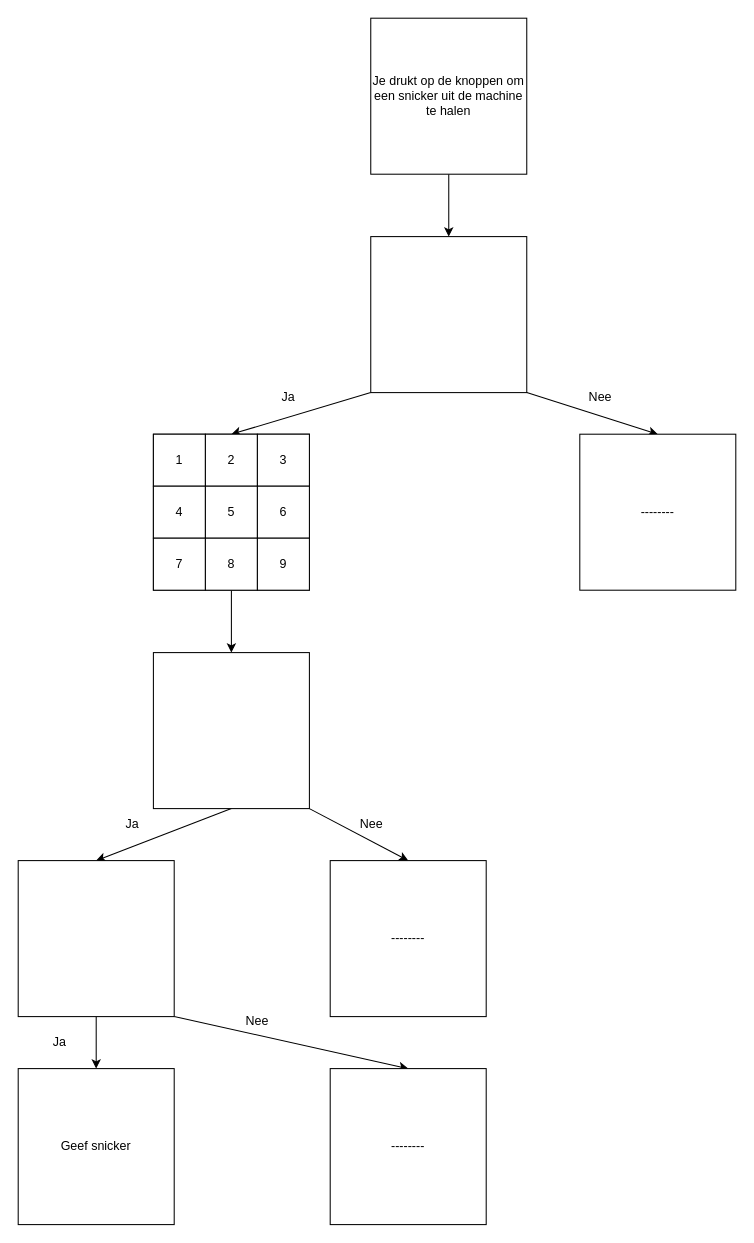
Image size: 754x1243. Some labels were removed from this diagram. The shapes that lost their labels are listed below. From the top down, each one's centre as x and y in pixels, then its label:
At (x=448, y=314): "Wordt er een cijfercombinatie ingevoerd?".
At (x=230, y=730): "Is de cijfercode kloppend?".
At (x=95, y=938): "Is er betaald?".
